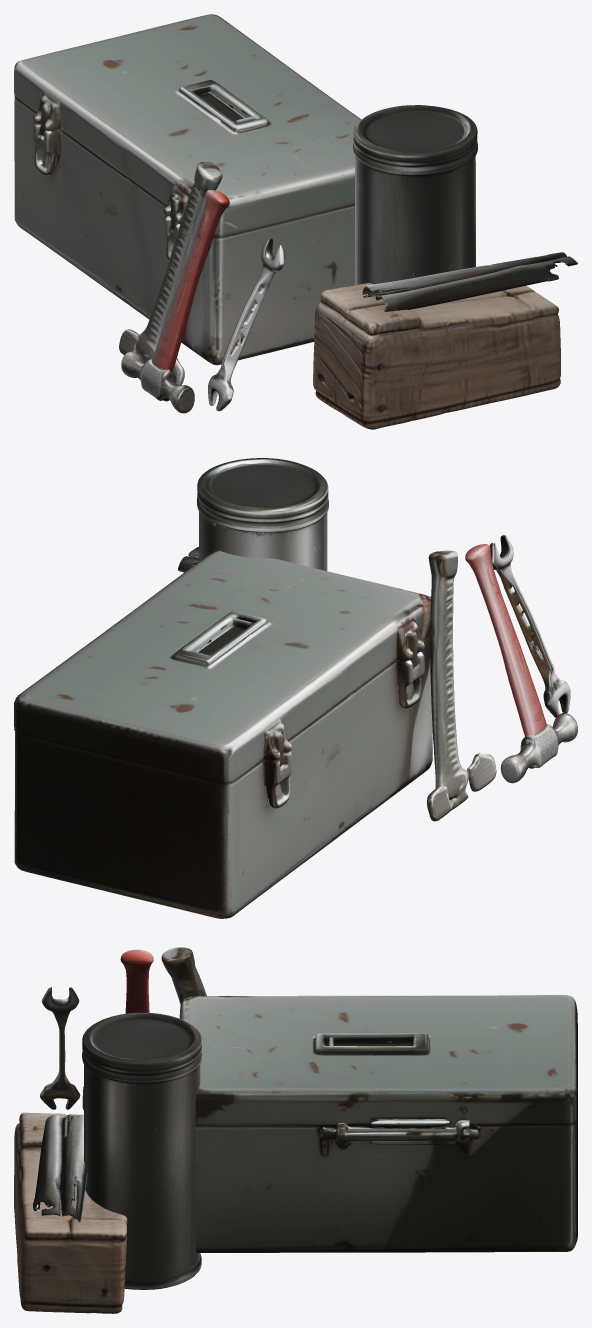
Rendered from midi_textured.glb.
3 renders of one model, top to bottom at view 1: azimuth 30°, elevation 25°; view 2: azimuth 150°, elevation 25°; view 3: azimuth 270°, elevation 25°, orthographic. The views are drawn at different scales.
Parts seen in each view (by area): view 1: geometry_0bdd5e564c21e, geometry_0a6483c6bb7fe, geometry_0254597fb8252, geometry_0a637f66d04c8, geometry_086c34b38442a, geometry_0; view 2: geometry_0bdd5e564c21e, geometry_0254597fb8252, geometry_0a637f66d04c8, geometry_0; view 3: geometry_0bdd5e564c21e, geometry_0254597fb8252, geometry_0a6483c6bb7fe, geometry_086c34b38442a, geometry_0, geometry_0a637f66d04c8.
Part boxes in pixels (bbox=[...]): geometry_0bdd5e564c21e: bbox=[14, 14, 361, 385]; geometry_0a6483c6bb7fe: bbox=[313, 283, 560, 429]; geometry_0254597fb8252: bbox=[353, 105, 477, 285]; geometry_0a637f66d04c8: bbox=[121, 190, 229, 413]; geometry_086c34b38442a: bbox=[362, 252, 577, 311]; geometry_0: bbox=[208, 238, 284, 411]; geometry_0bdd5e564c21e: bbox=[14, 550, 496, 918]; geometry_0254597fb8252: bbox=[197, 458, 328, 570]; geometry_0a637f66d04c8: bbox=[465, 544, 577, 783]; geometry_0: bbox=[490, 535, 570, 717]; geometry_0bdd5e564c21e: bbox=[161, 947, 577, 1252]; geometry_0254597fb8252: bbox=[82, 1012, 202, 1289]; geometry_0a6483c6bb7fe: bbox=[14, 1112, 127, 1313]; geometry_086c34b38442a: bbox=[33, 1115, 87, 1222]; geometry_0: bbox=[40, 987, 80, 1109]; geometry_0a637f66d04c8: bbox=[82, 949, 153, 1109].
Bounding box in the file's own units: 1.47 × 0.8886 × 1.91.
6 materials, 6 textured.
